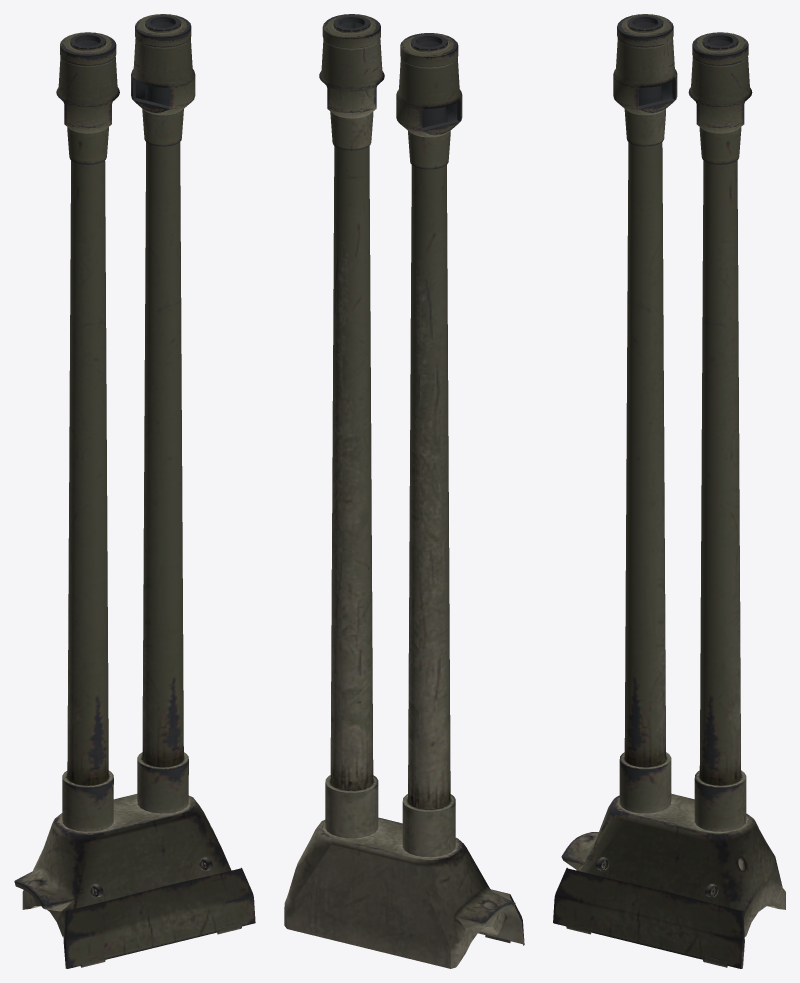
File: Gun_06.glb
3 renders of one model, left to right at view 1: azimuth 30°, elevation 25°; view 2: azimuth 150°, elevation 25°; view 3: azimuth 330°, elevation 25°, orthographic. The views are drawn at different scales.
Visible parts, largest first — view 1: set_0_group_0; view 2: set_0_group_0; view 3: set_0_group_0.
Part boxes in pixels (left/top/right/bottom): set_0_group_0: left=14, top=14, right=255, bottom=968; set_0_group_0: left=284, top=14, right=524, bottom=968; set_0_group_0: left=553, top=14, right=785, bottom=968.
Size of the model in its own units: 1.15 by 4.98 by 0.5816.
1 material, 1 textured.
